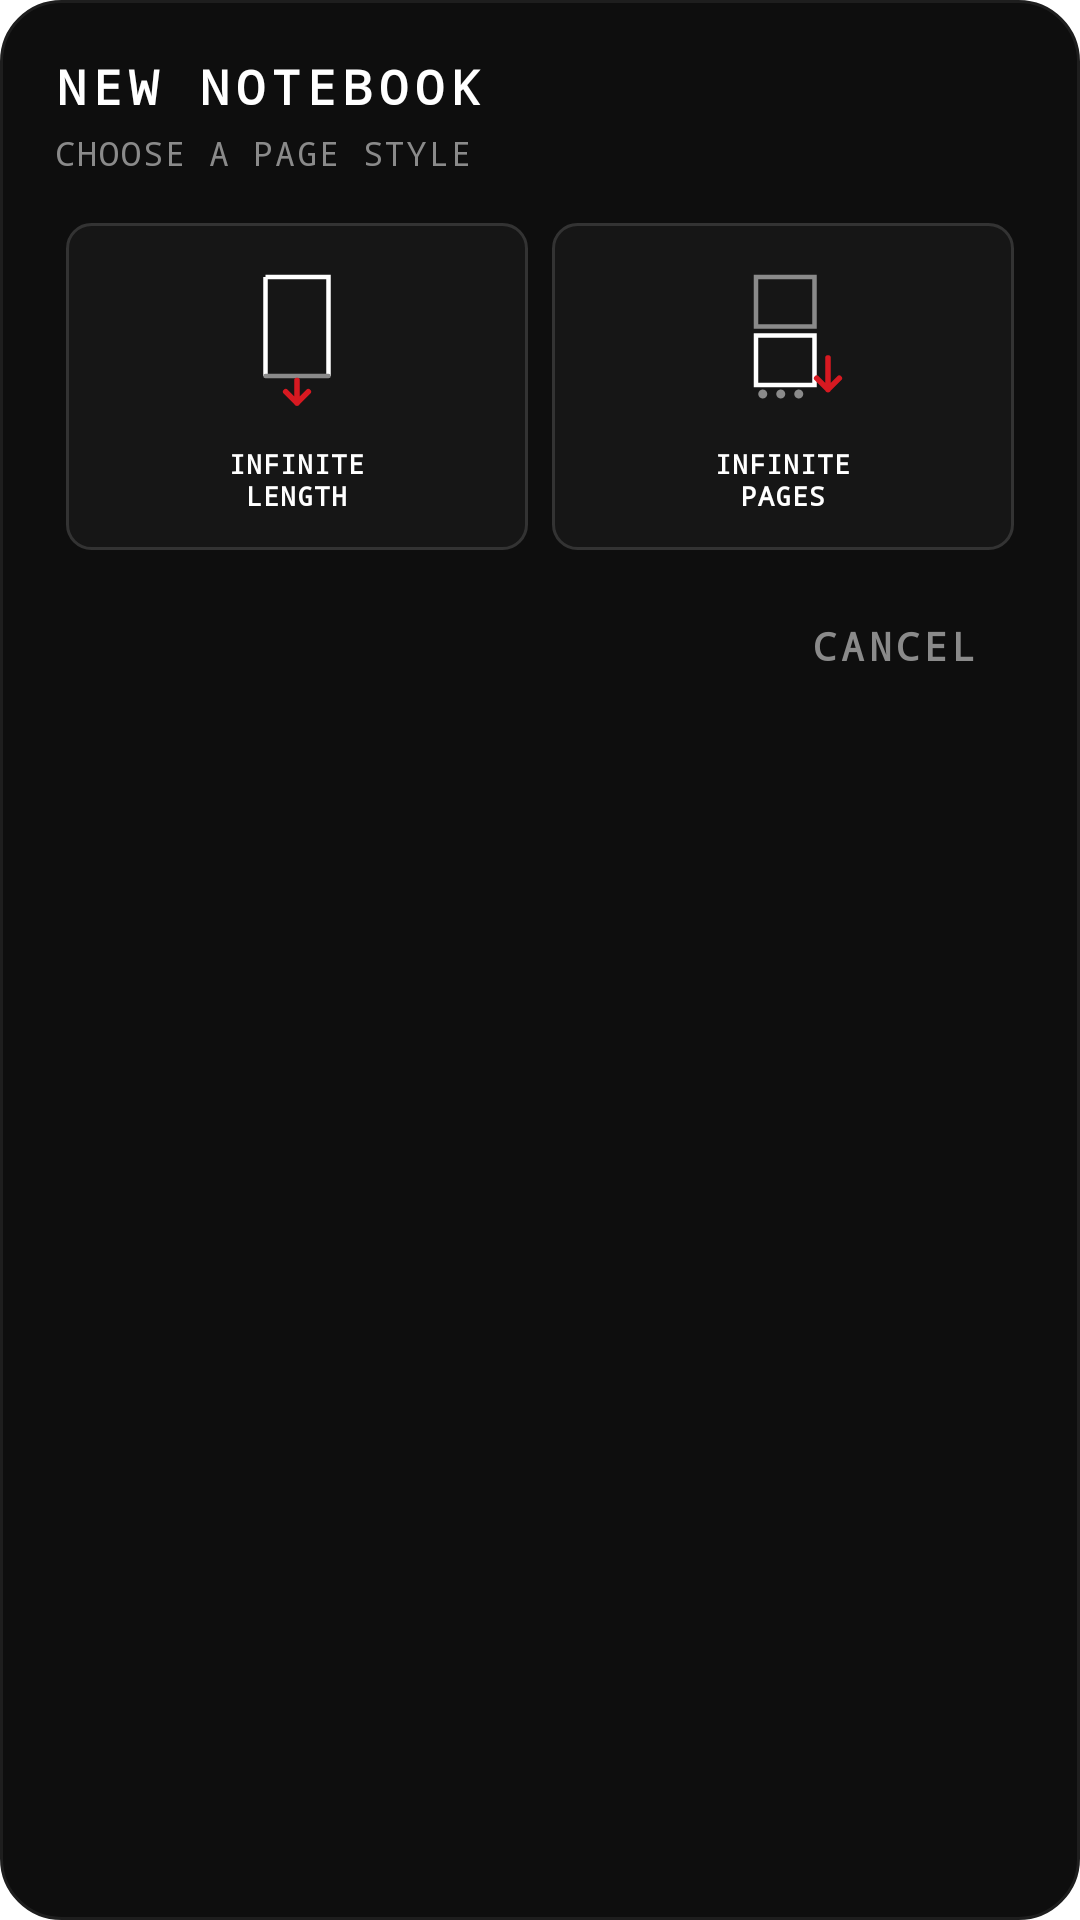

Icons on this 1080 × 1920 Android screen, each with the point to tap as (x=x, y=y):
page infinite: (x=297, y=340)
page multi infinite: (x=798, y=336)
